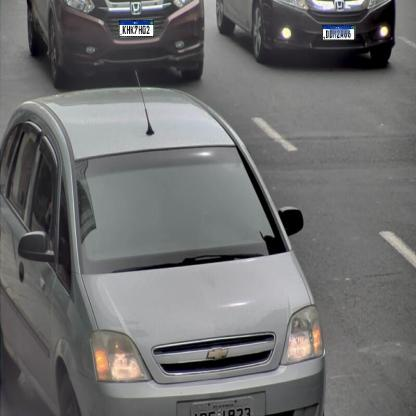PlacaM: (119, 20, 154, 37), (323, 25, 354, 40)
